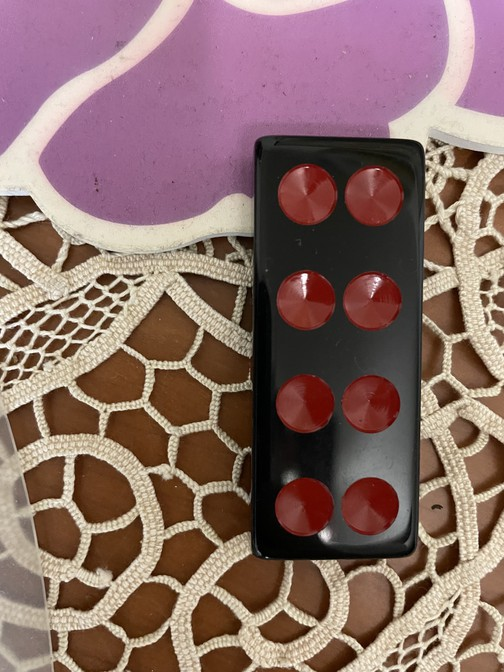man: (250, 136, 422, 561)
